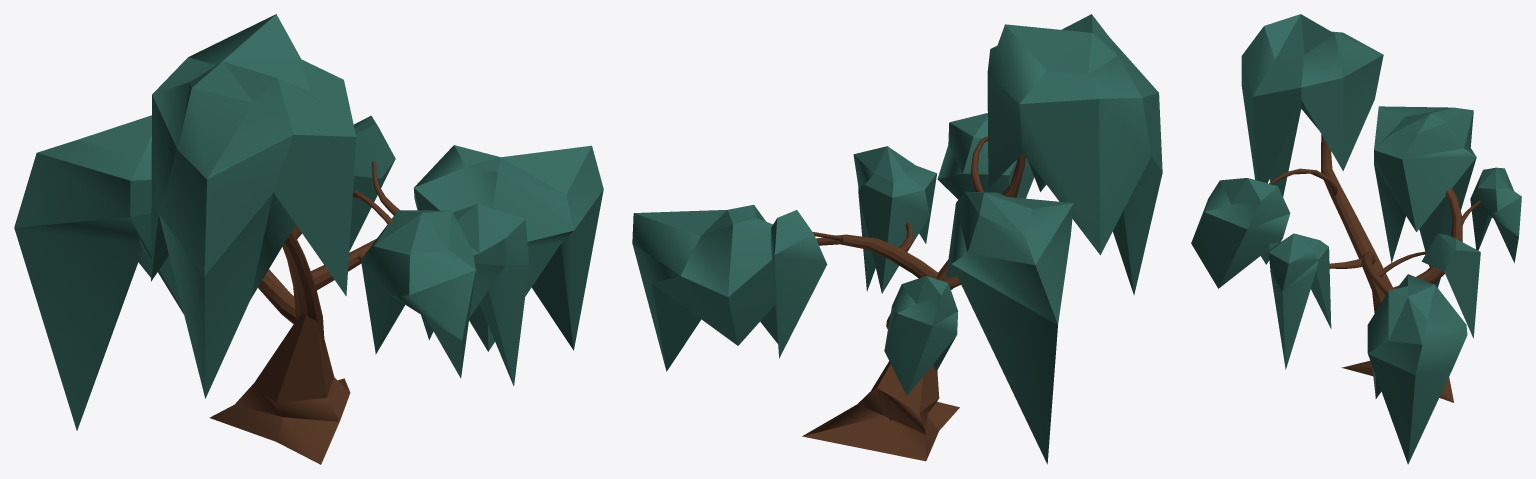
Rendered from Trees_3.fbx.
3 views of the same model, side by side, from view 1: azimuth 30°, elevation 25°; view 2: azimuth 150°, elevation 25°; view 3: azimuth 270°, elevation 25° (orthographic). The views are drawn at different scales.
Parts seen in each view (by area): view 1: pSphere6, pSphere9, pSphere8, pSphere7, pSphere4, pSphere11, pSphere10, pCylinder11, pCylinder13, pCylinder12; view 2: pSphere6, pSphere9, pSphere8, pSphere4, pSphere11, pSphere12, pSphere10, pSphere7, pCylinder12, pCylinder11; view 3: pSphere6, pSphere9, pSphere8, pSphere7, pSphere11, pSphere12, pSphere10, pCylinder11, pCylinder13, pSphere4, pCylinder12, pCylinder16.
Boxes of the visible parts, x1,y1,x2,y2 form: pSphere6: [151, 14, 356, 398]; pSphere9: [14, 115, 183, 430]; pSphere8: [414, 145, 603, 351]; pSphere7: [361, 210, 475, 378]; pSphere4: [209, 314, 350, 464]; pSphere11: [421, 204, 529, 386]; pSphere10: [349, 115, 395, 251]; pCylinder11: [282, 230, 325, 358]; pCylinder13: [258, 269, 296, 324]; pCylinder12: [311, 238, 376, 290]; pSphere6: [987, 14, 1162, 295]; pSphere9: [946, 191, 1073, 464]; pSphere8: [632, 204, 777, 371]; pSphere4: [802, 361, 959, 461]; pSphere11: [853, 146, 936, 293]; pSphere12: [884, 276, 958, 395]; pSphere10: [771, 210, 827, 358]; pSphere7: [937, 113, 1034, 199]; pCylinder12: [816, 234, 938, 278]; pCylinder11: [889, 154, 1025, 420]; pSphere6: [1241, 14, 1383, 196]; pSphere9: [1374, 106, 1476, 287]; pSphere8: [1367, 274, 1467, 464]; pSphere7: [1191, 178, 1290, 288]; pSphere11: [1268, 233, 1331, 369]; pSphere12: [1470, 167, 1521, 263]; pSphere10: [1421, 233, 1480, 338]; pCylinder11: [1321, 134, 1392, 307]; pCylinder13: [1392, 188, 1462, 289]; pSphere4: [1341, 291, 1453, 402]; pCylinder12: [1361, 251, 1390, 294]; pCylinder16: [1269, 168, 1338, 196].
Bounding box in the file's own units: 0.2098 × 0.1702 × 0.1607.
